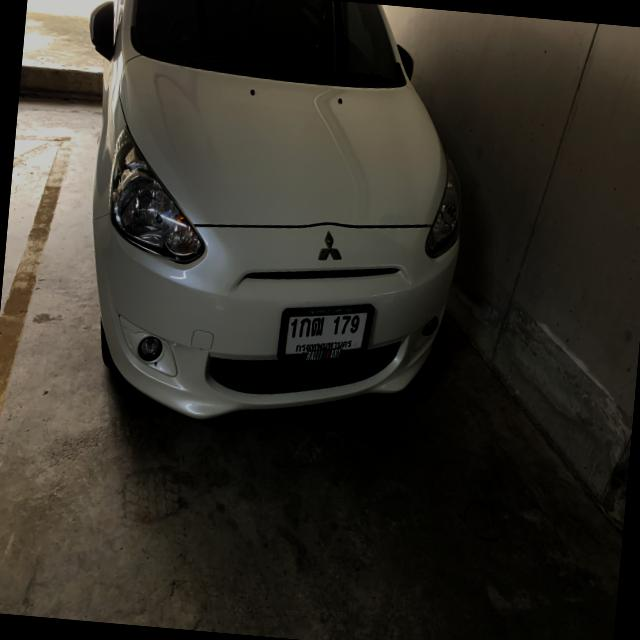license_plate: (274, 293, 379, 378)
